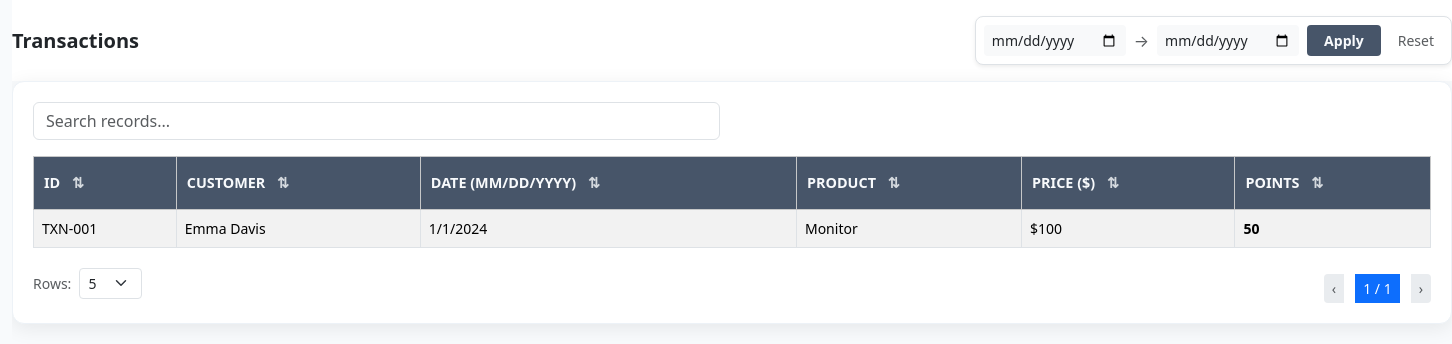
Test: TransactionsTable Component › shows error when applying without selecting both dates
Click the button "Apply": (1344, 40) left=1307, top=25, right=1381, bottom=56
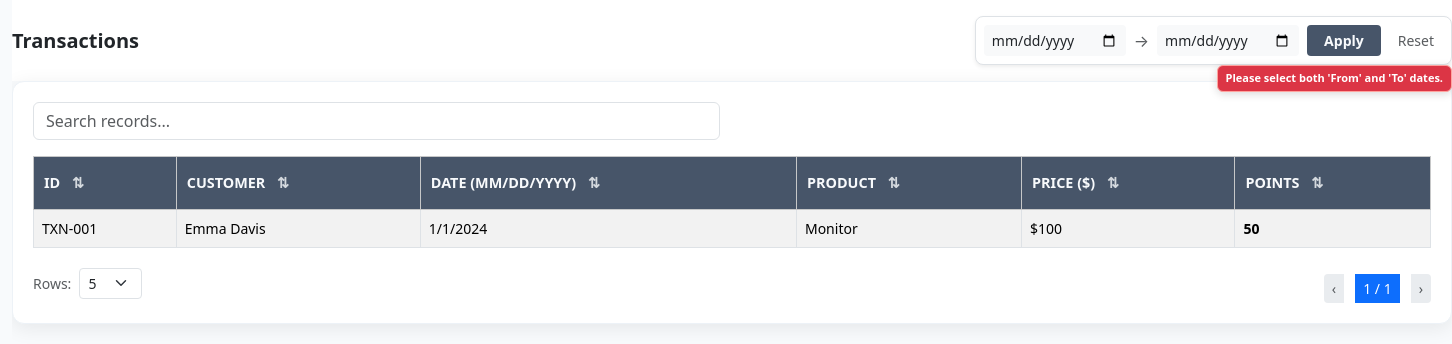
expect the text "Please select both 'From' and 'To' dates." is shown: met, box left=1217, top=65, right=1451, bottom=92
